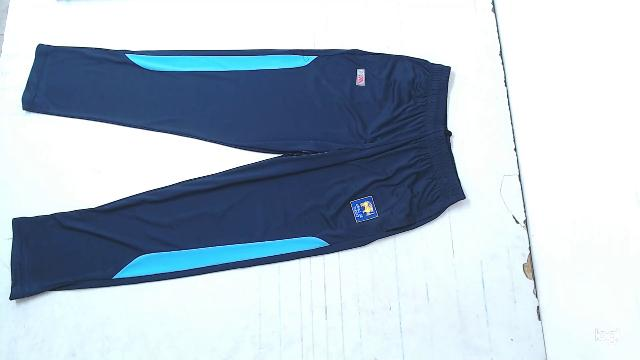new-garment: (10, 44, 464, 299)
